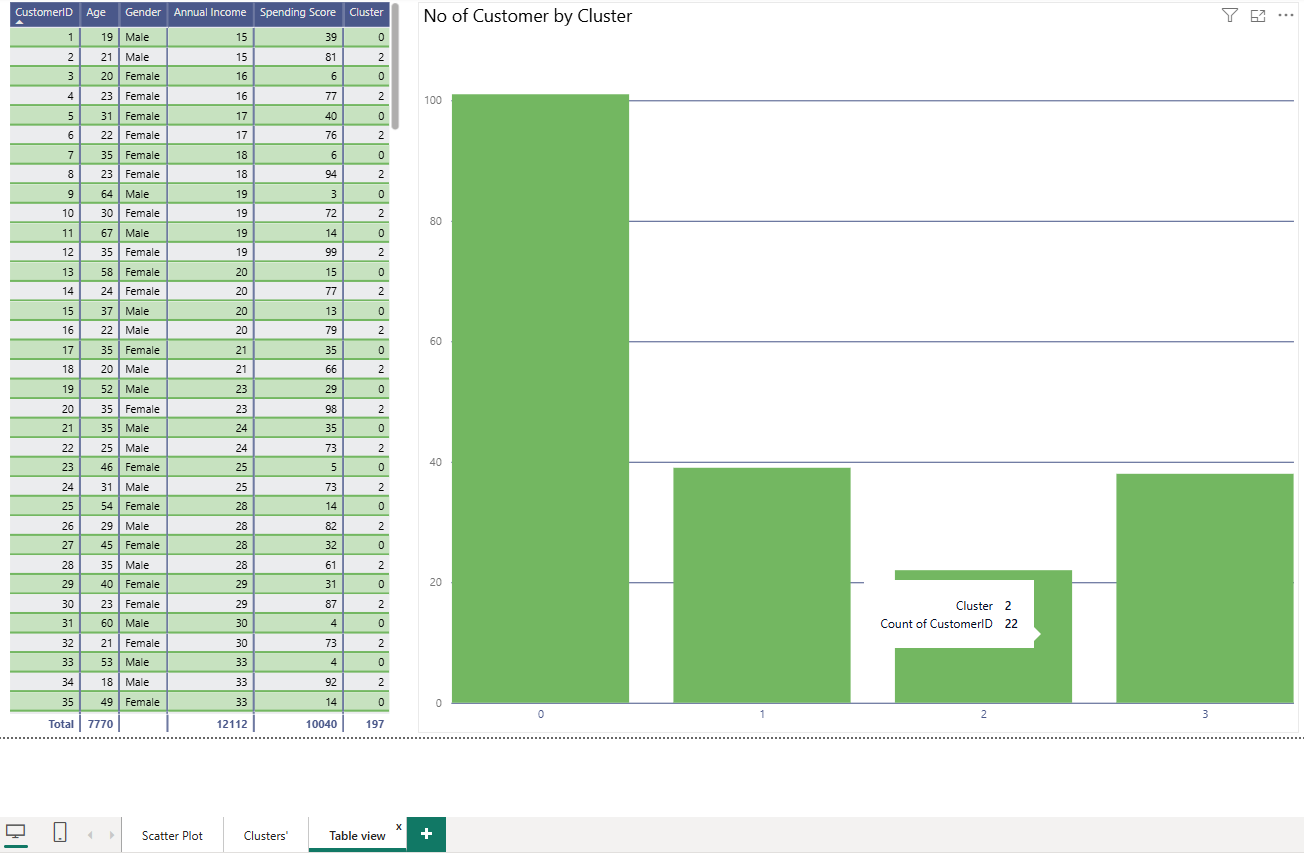

Layout of this report page (visuals, bound fields, positions):
{"tool":"powerbi","page":{"name":"Table view","canvas":[1280,720],"ordinal":2},"visuals":[{"type":"tableEx","fields":{"Values":["segmented_customers.CustomerID","Sum(segmented_customers.Age)","segmented_customers.Gender","Sum(segmented_customers.Annual Income)","Sum(segmented_customers.Spending Score)","Sum(segmented_customers.Cluster)"]},"box":[9.9,0,389.6,720.5],"z":0},{"type":"clusteredColumnChart","title":"No of Customer by Cluster","fields":{"Category":["segmented_customers.Cluster"],"Y":["CountNonNull(segmented_customers.CustomerID)"]},"box":[412.4,5,856.6,710.6],"z":1000}]}

Visuals, with their boxes on the page's 1280x720 design canvas (x1, y1, x2, y2). These are canvas units, not pixel positions in the 1304x853 screenshot, which may show the page scaled, cropped or inside an application window:
tableEx - segmented_customers.CustomerID x Sum(segmented_customers.Age): rect(10, 0, 400, 720)
"No of Customer by Cluster" clusteredColumnChart: rect(412, 5, 1269, 716)
